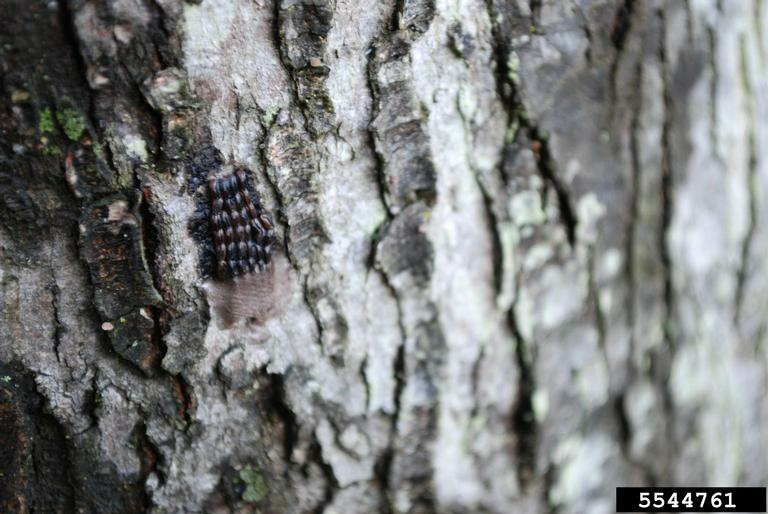egg masses: (187, 164, 276, 263)
